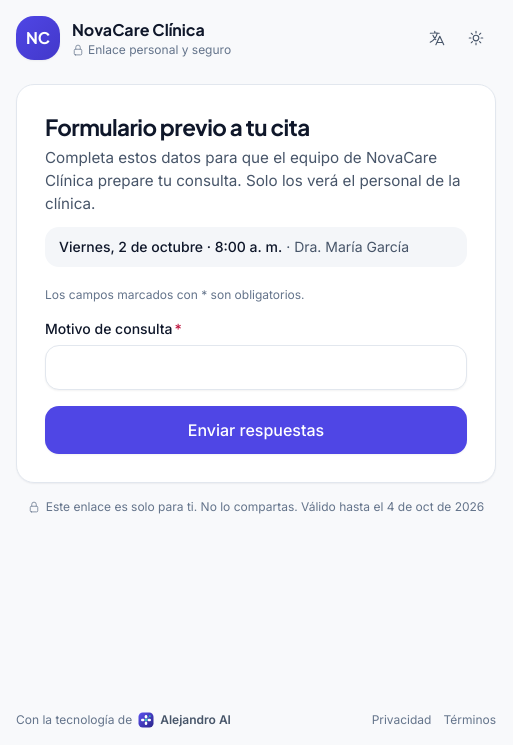
ActionPage (/a/:token) › validates the intake form on the client before sending
Click the button "Enviar respuestas" at (256, 430), box [45,406,467,454]
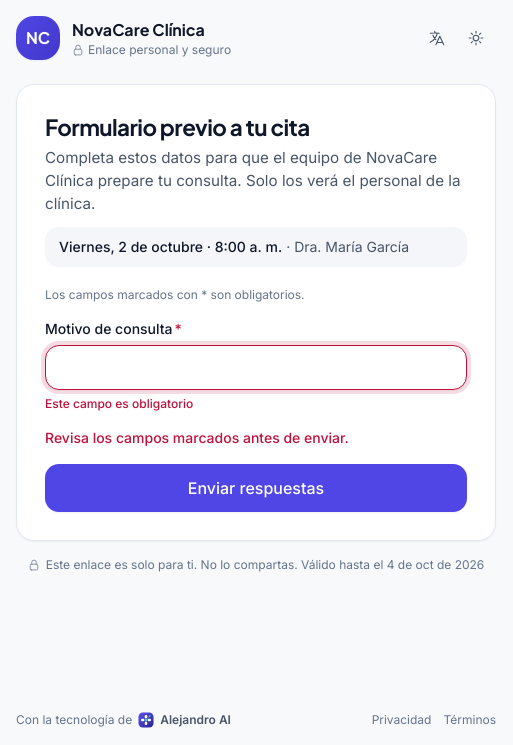
Now the field labelled "Motivo de consulta*" is marked as invalid
Type "Control" into the field labelled "Motivo de consulta*" at (256, 368), box [45,345,467,390]
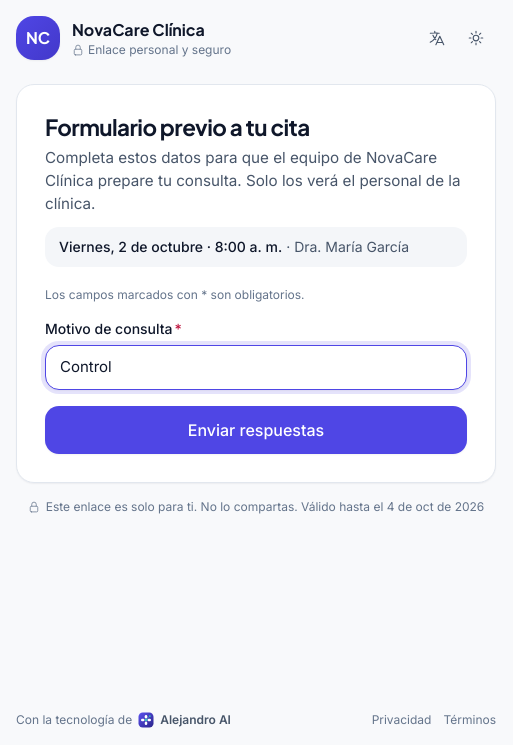
Click the button "Enviar respuestas" at (256, 430), box [45,406,467,454]
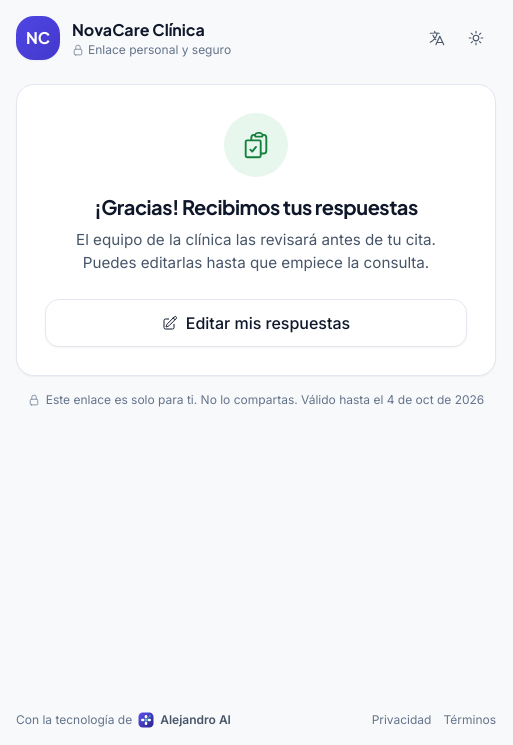
Now the button "Editar mis respuestas" is shown, box [45,299,467,347]
